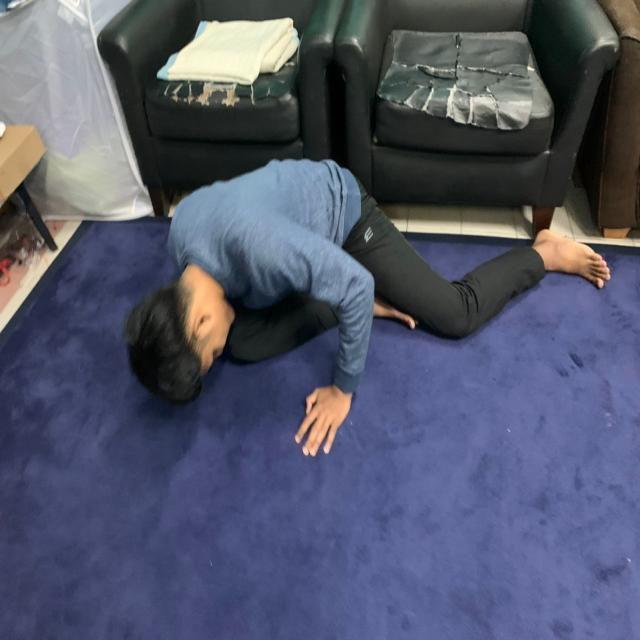fall: (122, 154, 608, 458)
